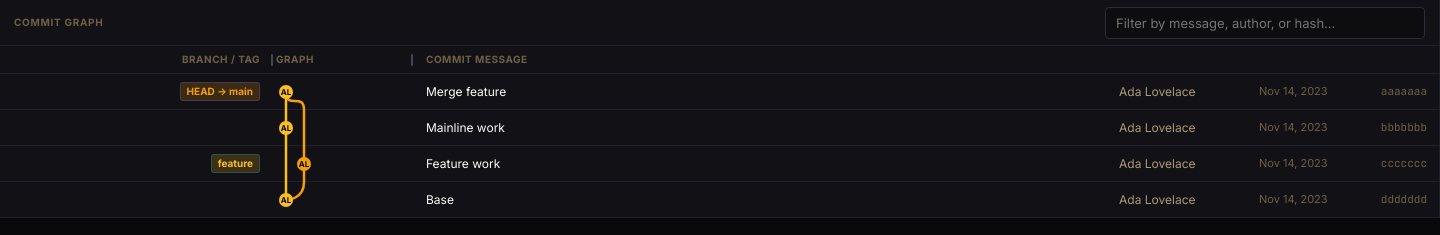
Scenario: CommitGraph › filtering › reports when nothing matches rather than rendering an empty list
The width and height of the screenshot is (1440, 235).
Type "nothing-matches-this" into the search field with placeholder "Filter by message, author, or hash…" at (1265, 22), box [1105,6,1425,38]
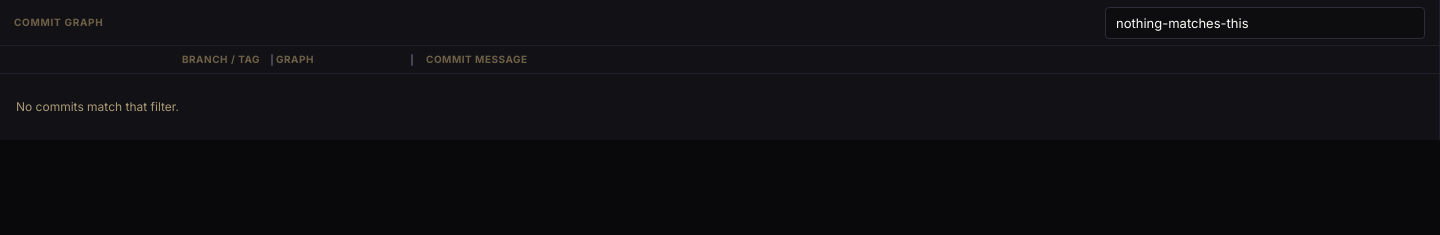
Expected: the text "No commits match that filter." is shown, [16,99,179,114]
